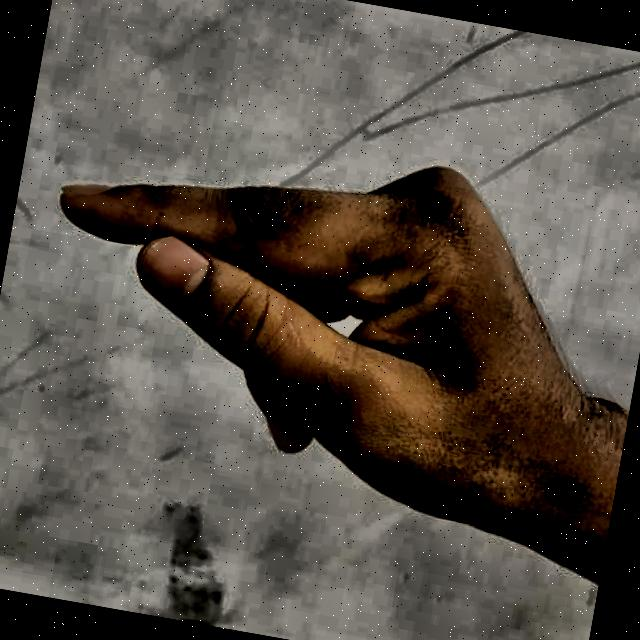Tha: (0, 77, 640, 629)
